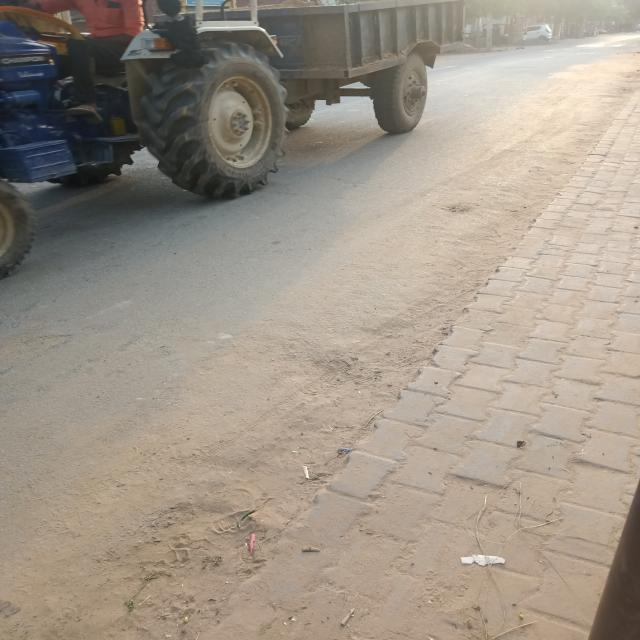tractor_front: (0, 0, 457, 282)
